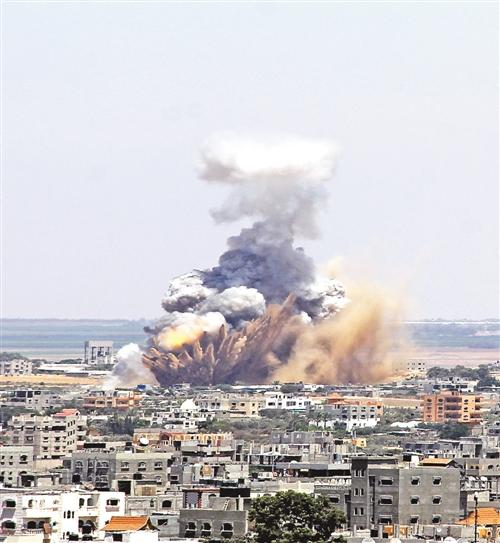smoke: (141, 138, 393, 387)
